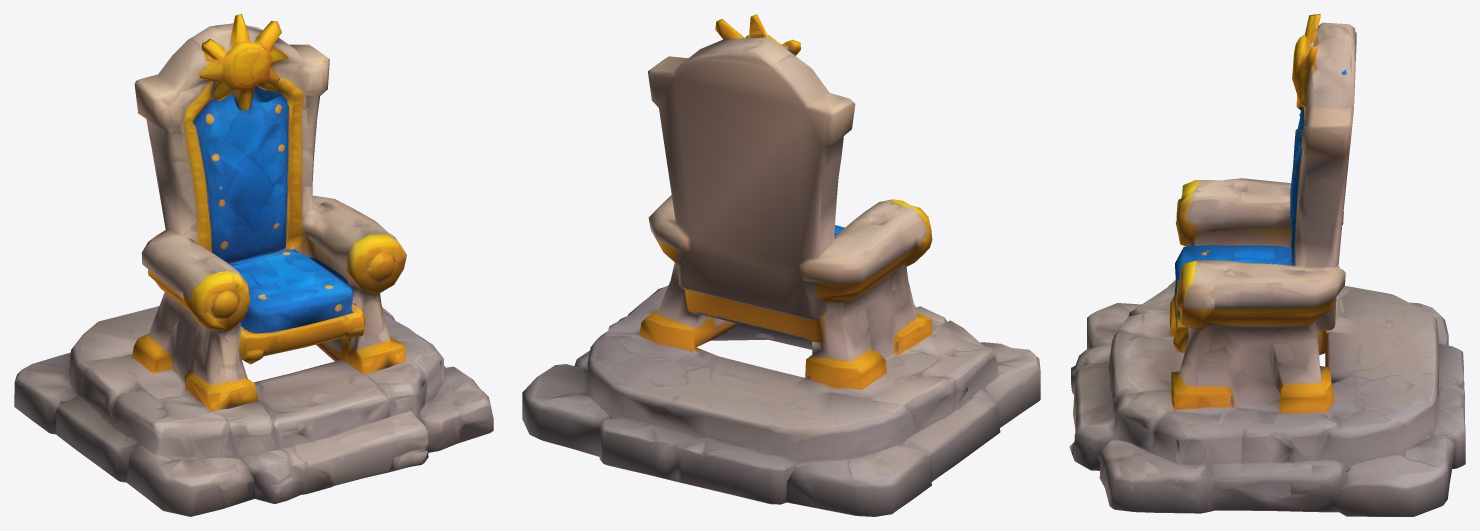
The picture shows the model from 3 angles, left to right: view 1: azimuth 30°, elevation 25°; view 2: azimuth 150°, elevation 25°; view 3: azimuth 270°, elevation 25°; orthographic projection. The views are drawn at different scales.
Parts seen in each view (by area): view 1: tripo_node_d8cb3e75-abb4-4f4e-ae58-8bb8d797517f; view 2: tripo_node_d8cb3e75-abb4-4f4e-ae58-8bb8d797517f; view 3: tripo_node_d8cb3e75-abb4-4f4e-ae58-8bb8d797517f.
Boxes of the visible parts, x1,y1,x2,y2 form: tripo_node_d8cb3e75-abb4-4f4e-ae58-8bb8d797517f: [14, 14, 493, 516]; tripo_node_d8cb3e75-abb4-4f4e-ae58-8bb8d797517f: [522, 14, 1040, 516]; tripo_node_d8cb3e75-abb4-4f4e-ae58-8bb8d797517f: [1069, 14, 1465, 516].
Size of the model in its own units: 0.9452 by 1 by 0.8669.
Materials: 1 (1 with a texture image).
